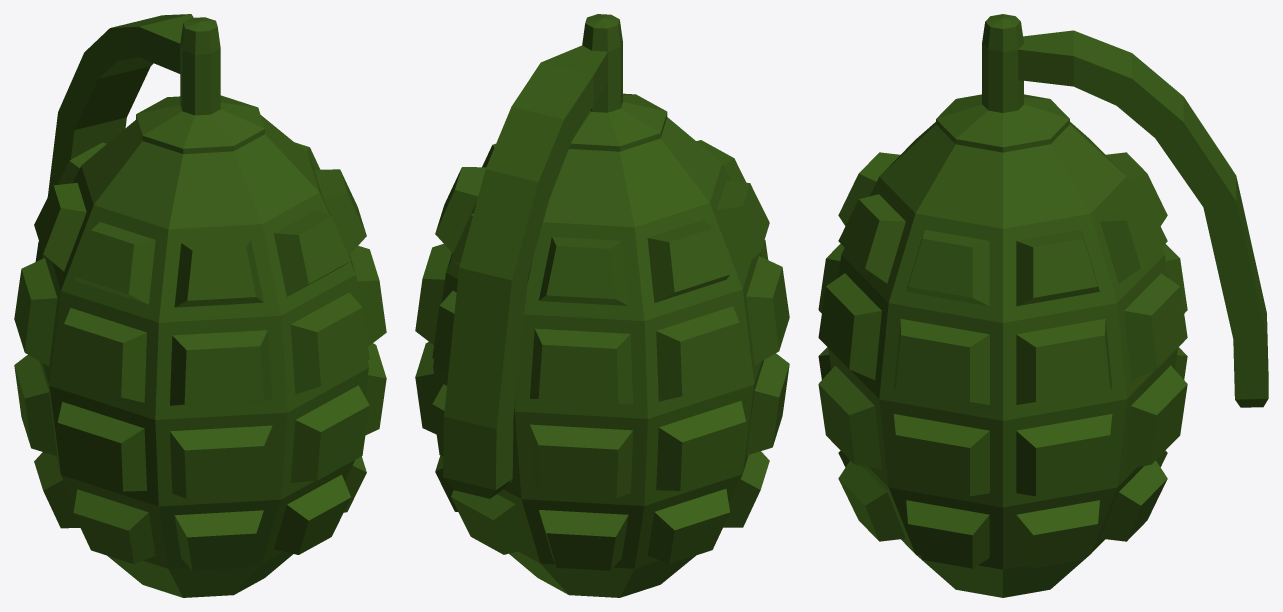
The model's file is grenade.fbx.
3 renders of one model, left to right at view 1: azimuth 30°, elevation 25°; view 2: azimuth 150°, elevation 25°; view 3: azimuth 270°, elevation 25°, orthographic.
Parts seen in each view (by area): view 1: Sphere; view 2: Sphere; view 3: Sphere.
Part boxes in pixels (x1,y1,x2,y2): Sphere: [14, 14, 386, 597]; Sphere: [415, 14, 789, 597]; Sphere: [818, 14, 1268, 597].
Size of the model in its own units: 21.09 by 35.9 by 25.71.
